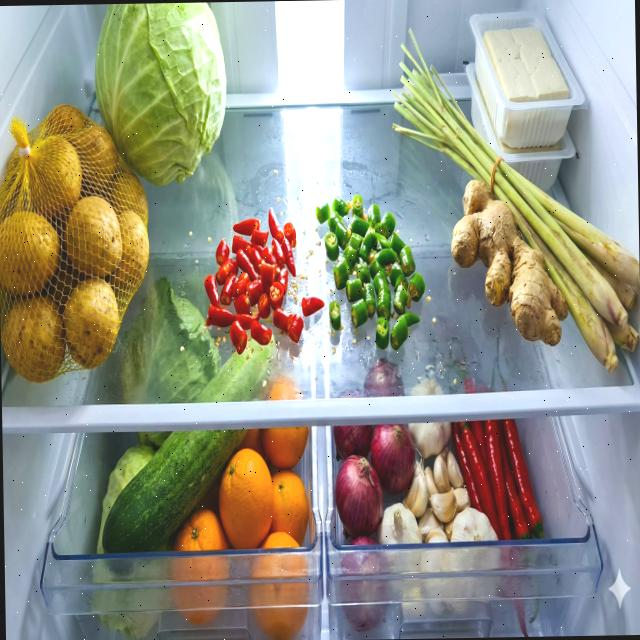cabbage: (94, 1, 228, 188), (117, 273, 222, 404)
chili: (202, 206, 326, 356), (315, 192, 426, 351), (450, 418, 546, 542)
cucumber: (98, 332, 282, 577)
garlic: (374, 420, 498, 544)
ginger: (450, 177, 569, 348)
lemongrass: (390, 22, 640, 378)
onion: (333, 423, 418, 632)
orange: (166, 426, 311, 640)
potato: (0, 102, 150, 383)
tofu: (482, 26, 568, 104)
